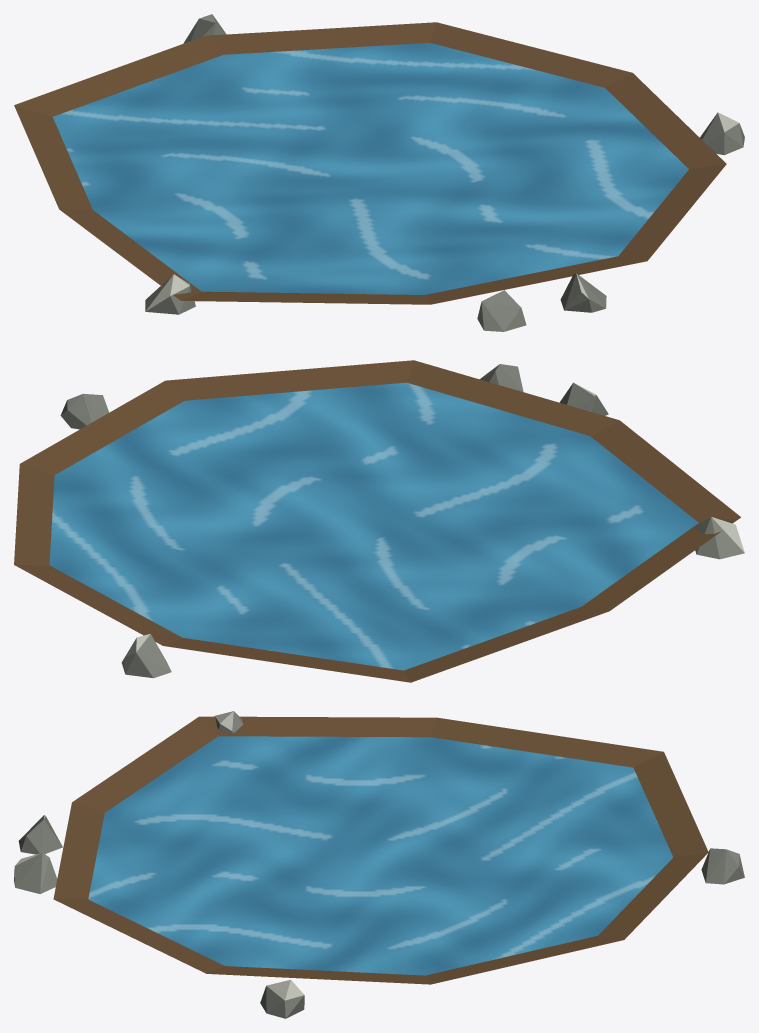
Rendered from deco_pond.glb.
The picture shows the model from 3 angles, top to bottom: view 1: azimuth 30°, elevation 25°; view 2: azimuth 150°, elevation 25°; view 3: azimuth 270°, elevation 25°; orthographic projection. The views are drawn at different scales.
Visible parts, largest first — view 1: deco_pond_mesh; view 2: deco_pond_mesh; view 3: deco_pond_mesh.
Part boxes in pixels (left/top/right/bottom): deco_pond_mesh: left=14, top=14, right=744, bottom=331; deco_pond_mesh: left=14, top=360, right=744, bottom=682; deco_pond_mesh: left=14, top=711, right=744, bottom=1018.
Size of the model in its own units: 0.9528 by 0.042 by 1.
4 materials, 1 textured.
